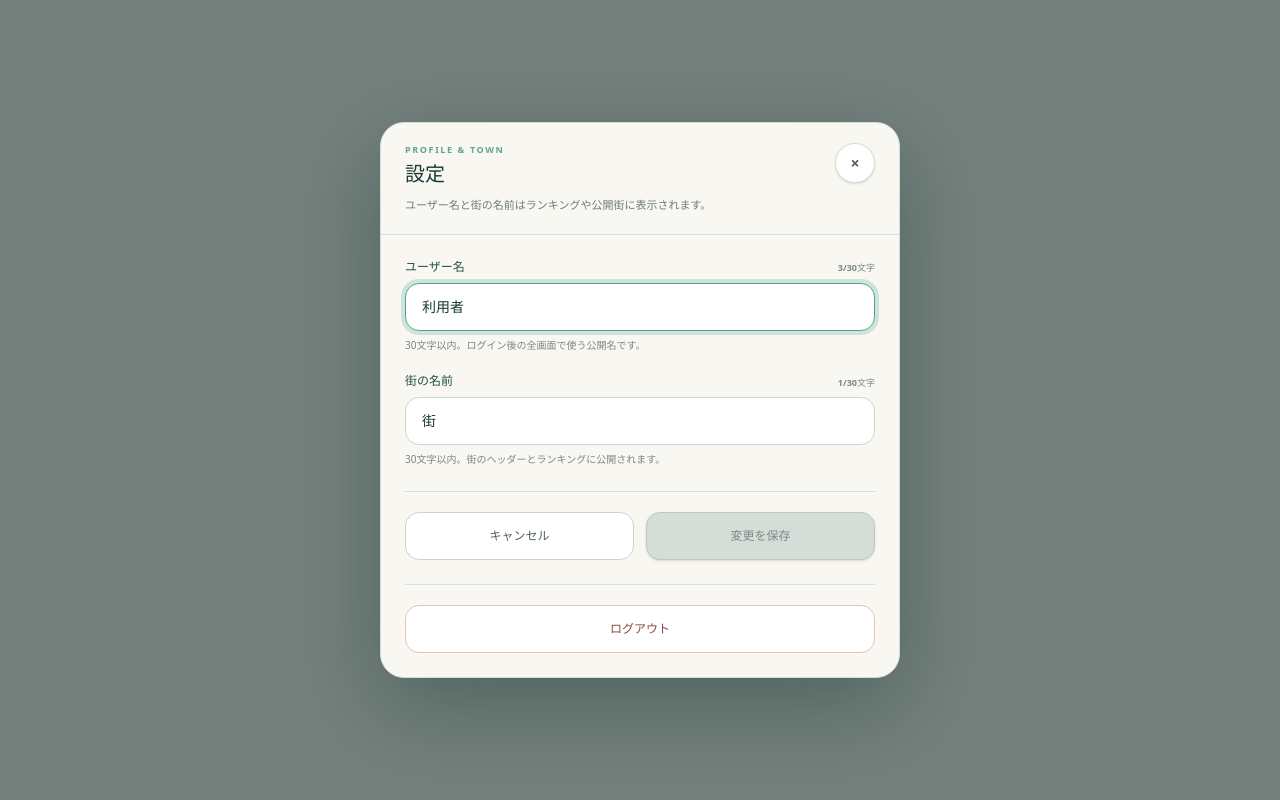
Scenario: UserSettingsDialog › signs out and surfaces an error message on failure
What coordinates should you click on to do the following:
click the button "ログアウト"
I would click on:
 (640, 629)
Its box is [405, 605, 875, 653].
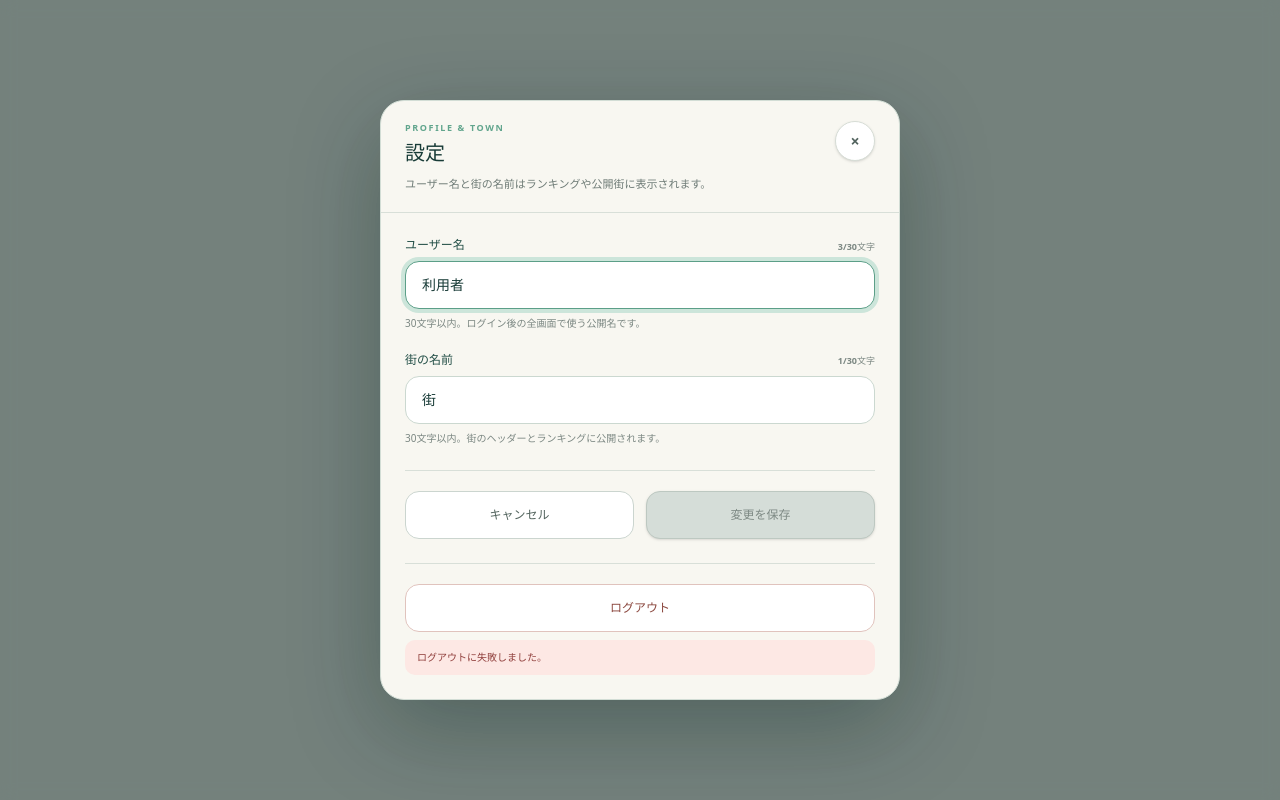
Expected: the message reads "ログアウトに失敗しました。", [417, 650, 547, 664]
